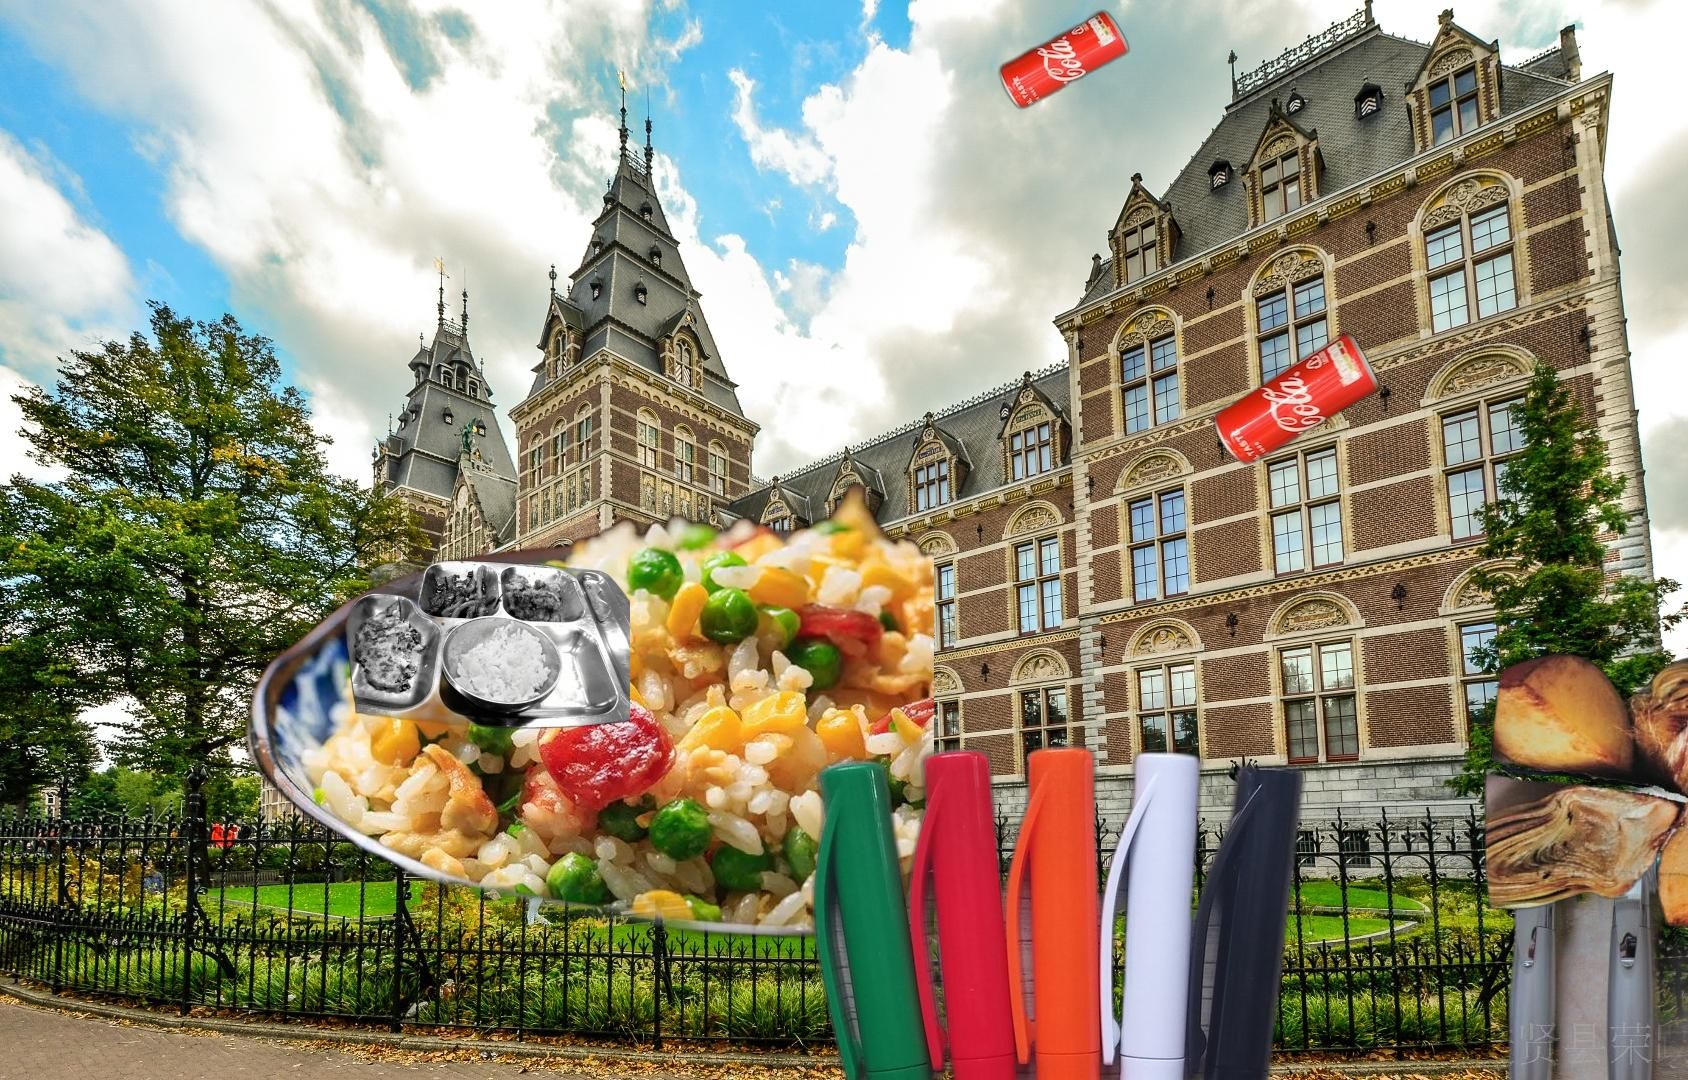biological: (239, 482, 934, 982), (340, 558, 630, 731)
metal-cans: (1209, 328, 1384, 471), (994, 6, 1134, 114)
paper: (1481, 651, 1688, 931)
penholder: (803, 736, 1432, 1080), (1502, 820, 1688, 1080)
